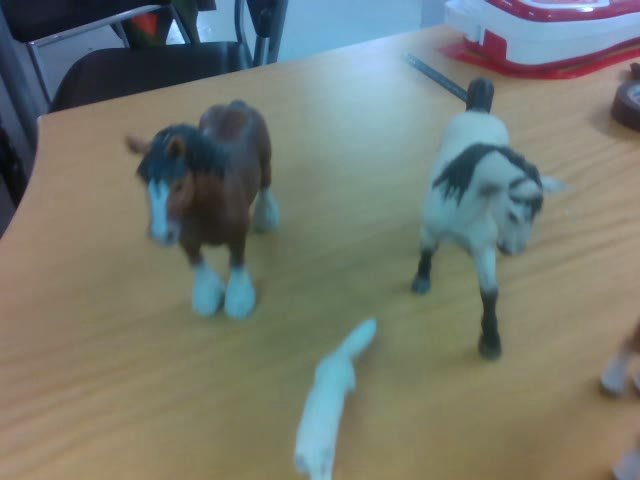toy: (411, 78, 562, 359), (122, 99, 279, 318), (295, 318, 377, 480)
